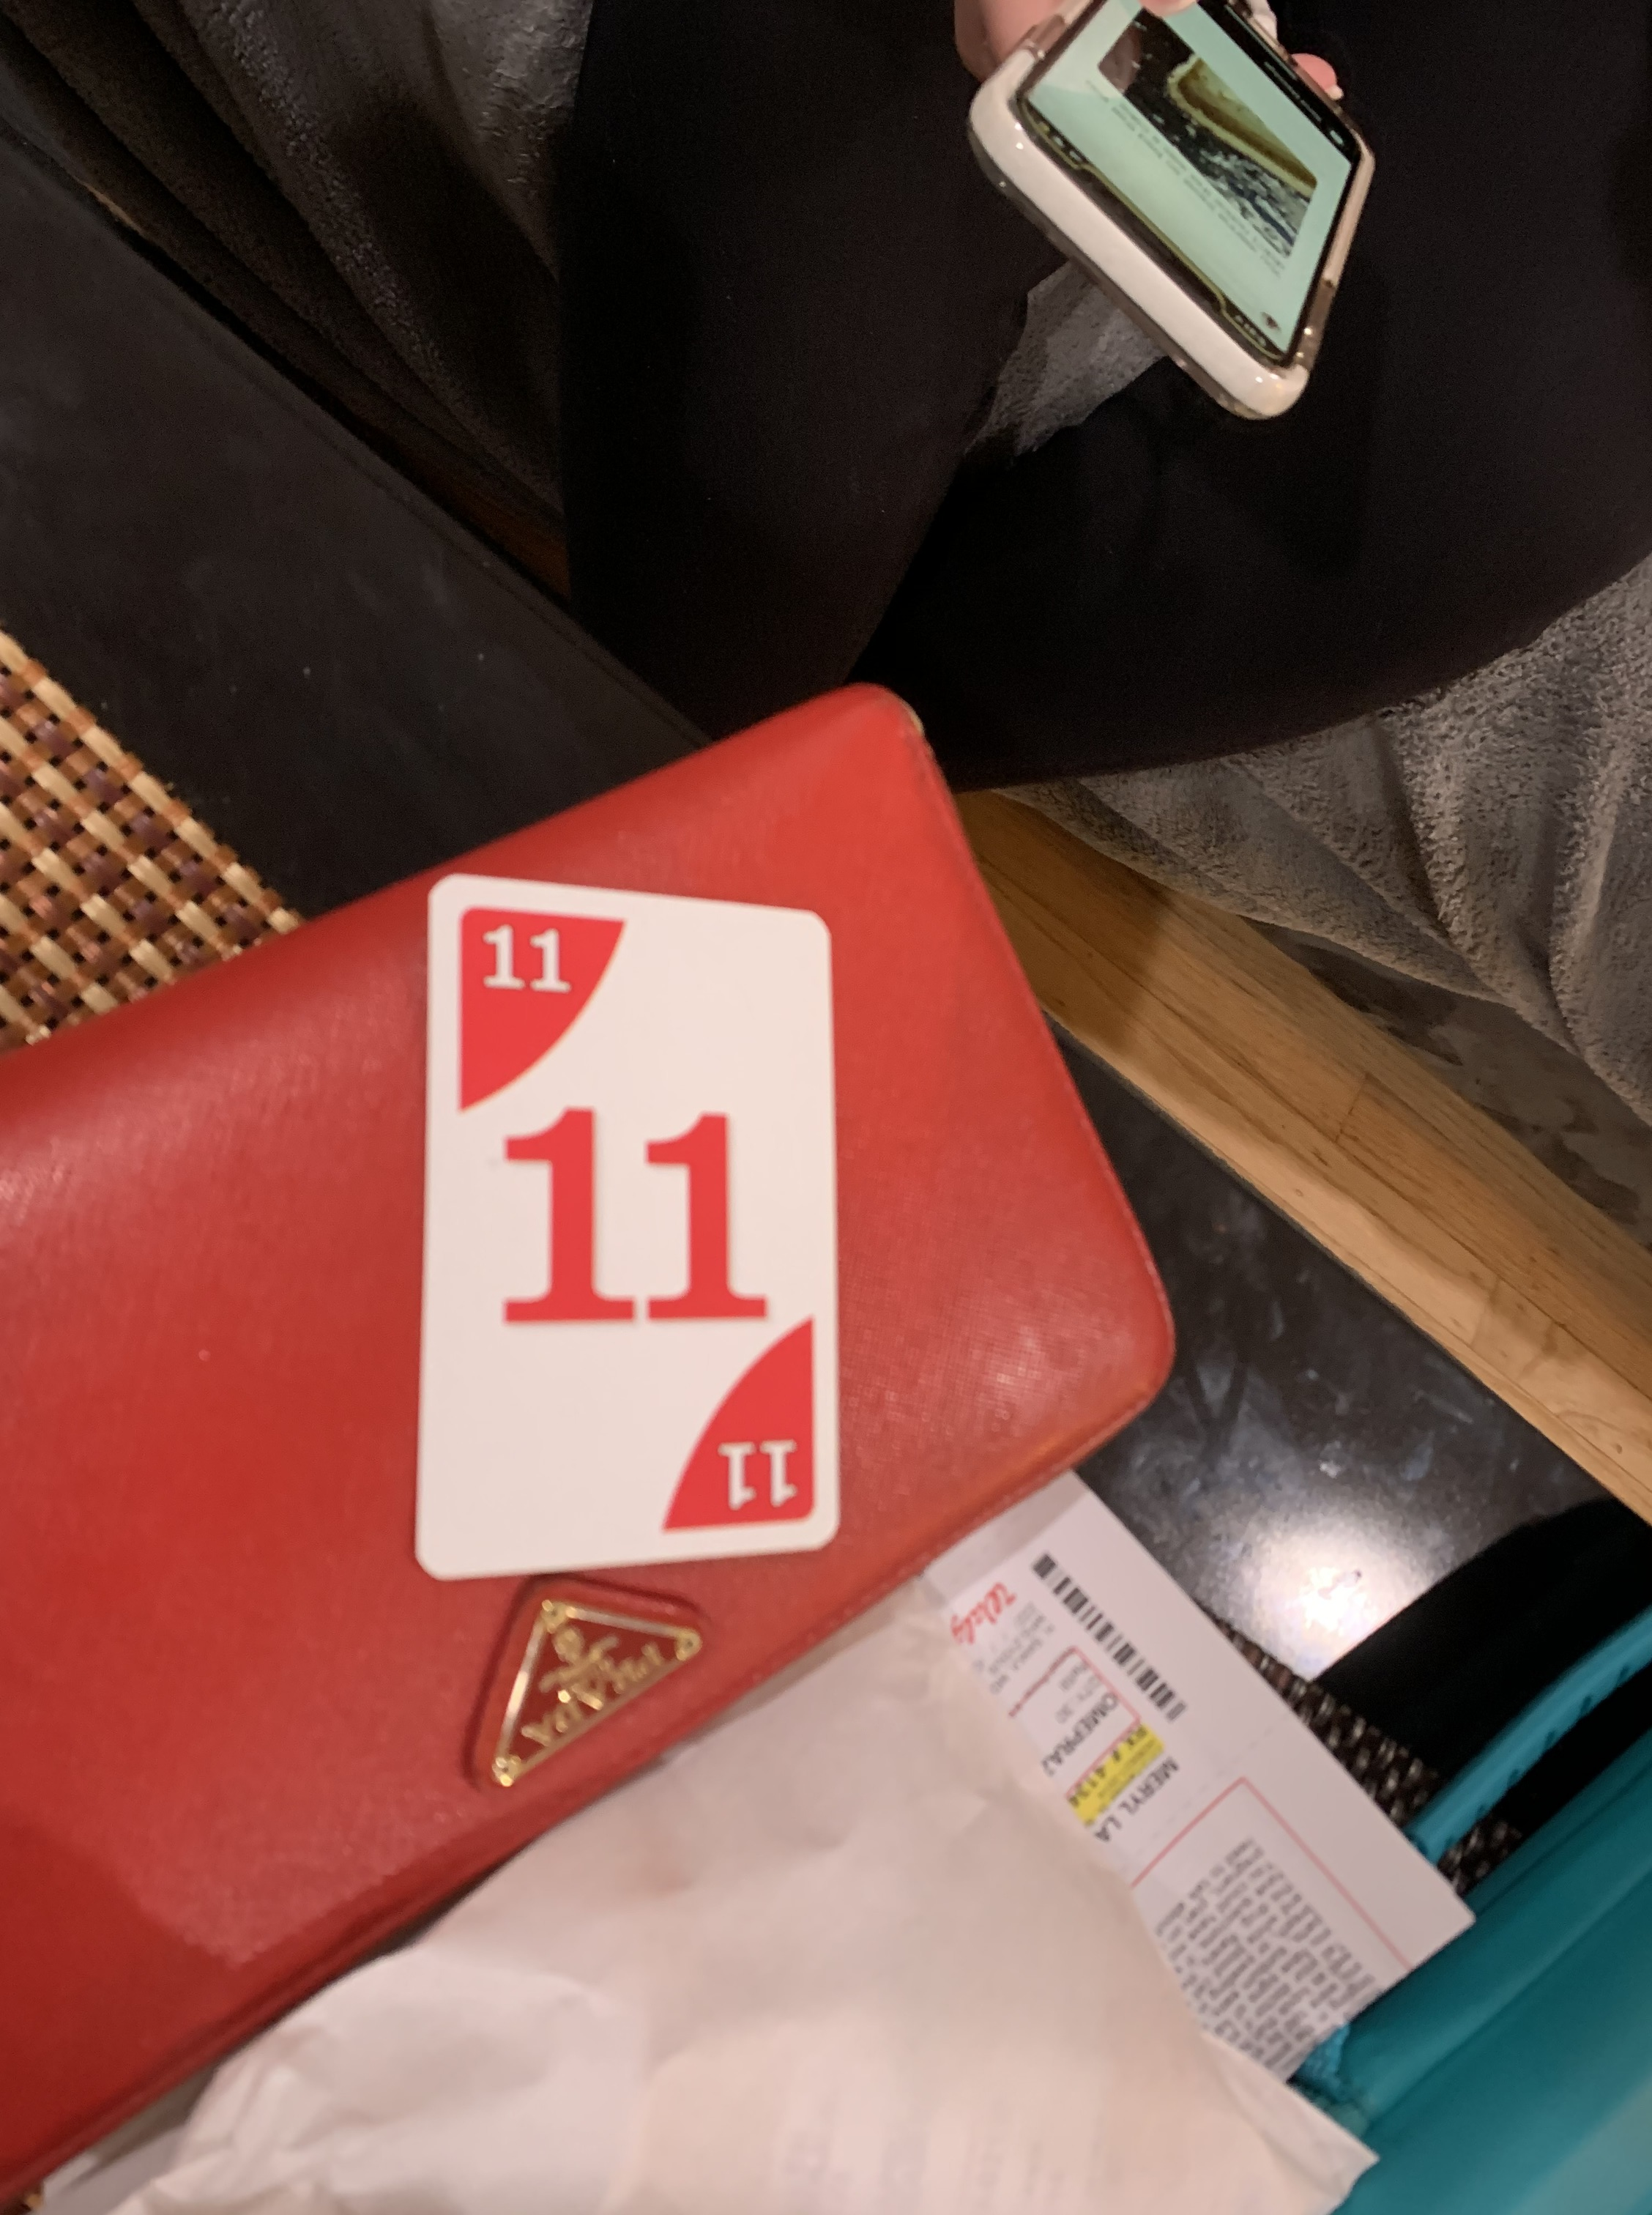eleven: (396, 859, 862, 1594)
